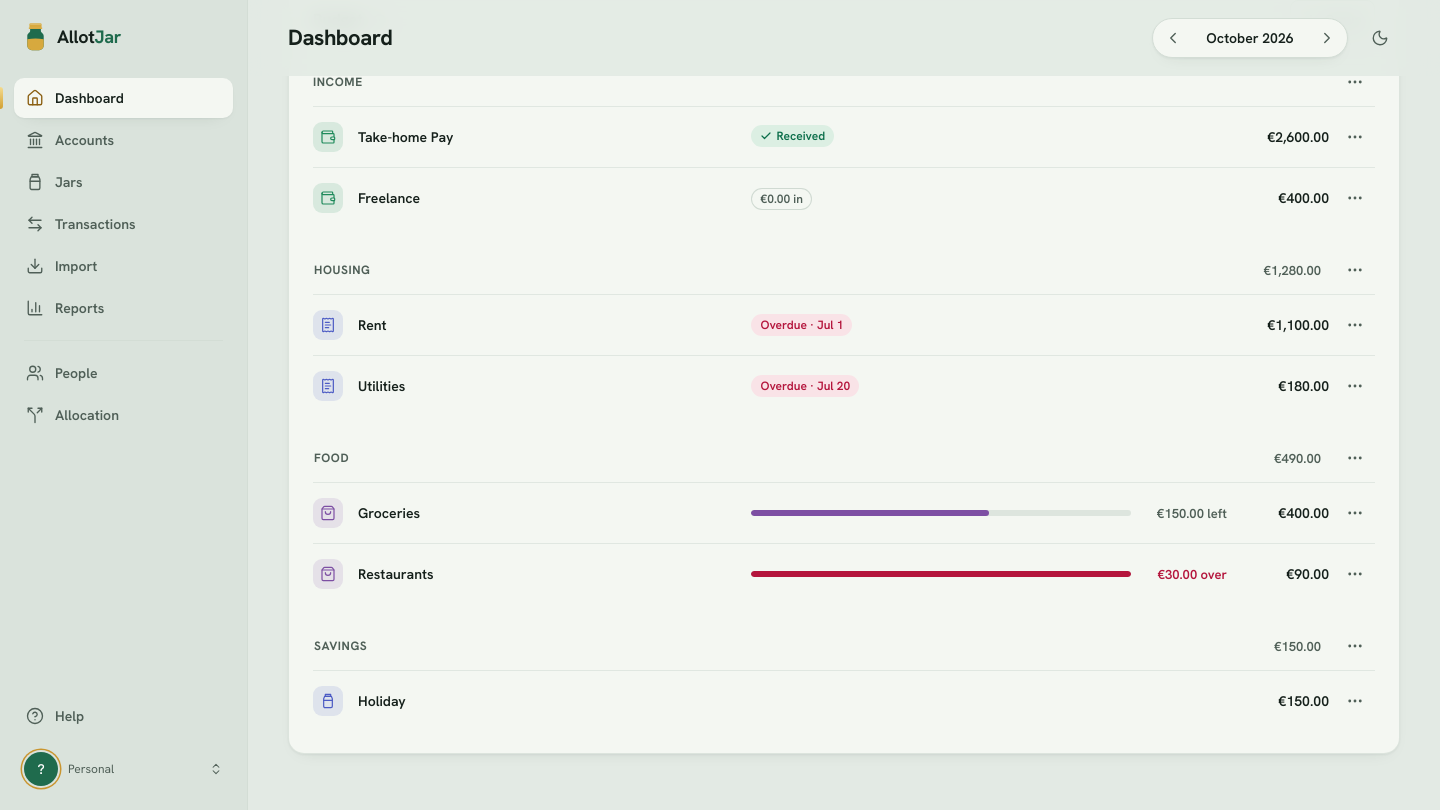
Test: DashboardPage — planned-amount parsing in-row (parseMinor seam) › DASH-040: a rejected input reverts silently — no request, no error, no flicker
The width and height of the screenshot is (1440, 810).
(page scrolled)
Click the button named "Planned amount for Groceries:".
click(1304, 513)  # box [1273,501,1335,525]
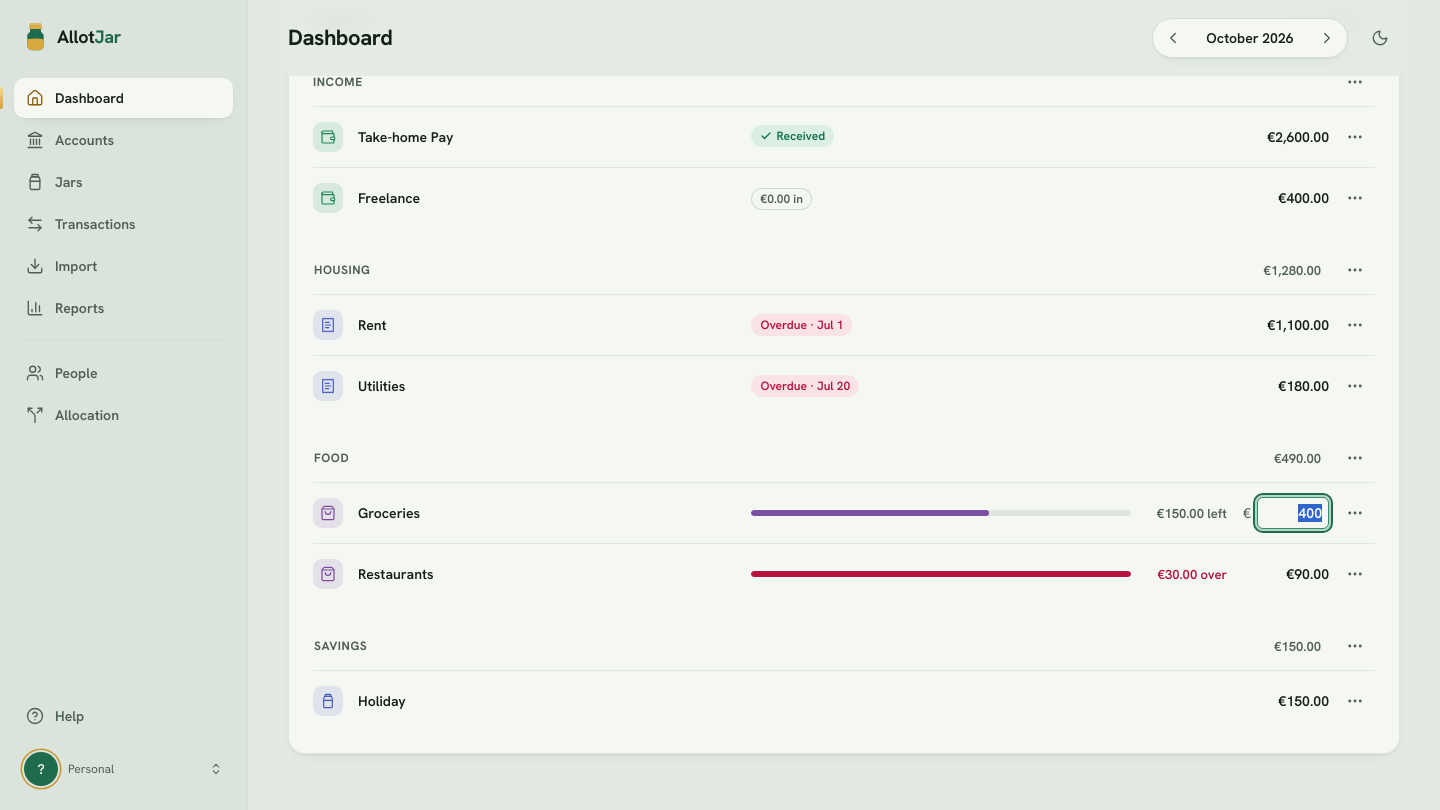
Replace the text in the field named "Planned amount for Groceries" with "abc" at [1293, 513], box [1257,497,1329,529]
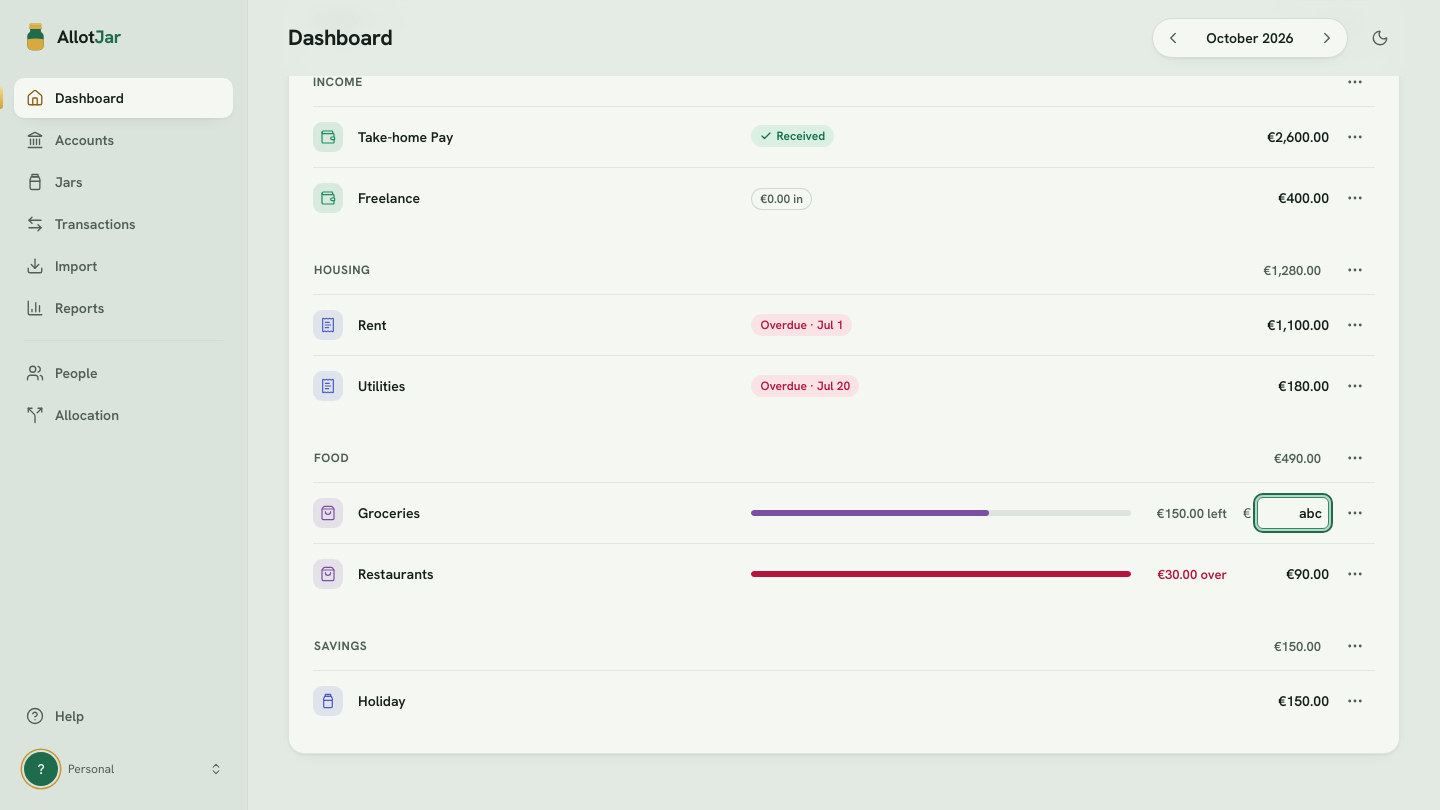
Leave the field named "Planned amount for Groceries", box [1257,497,1329,529]
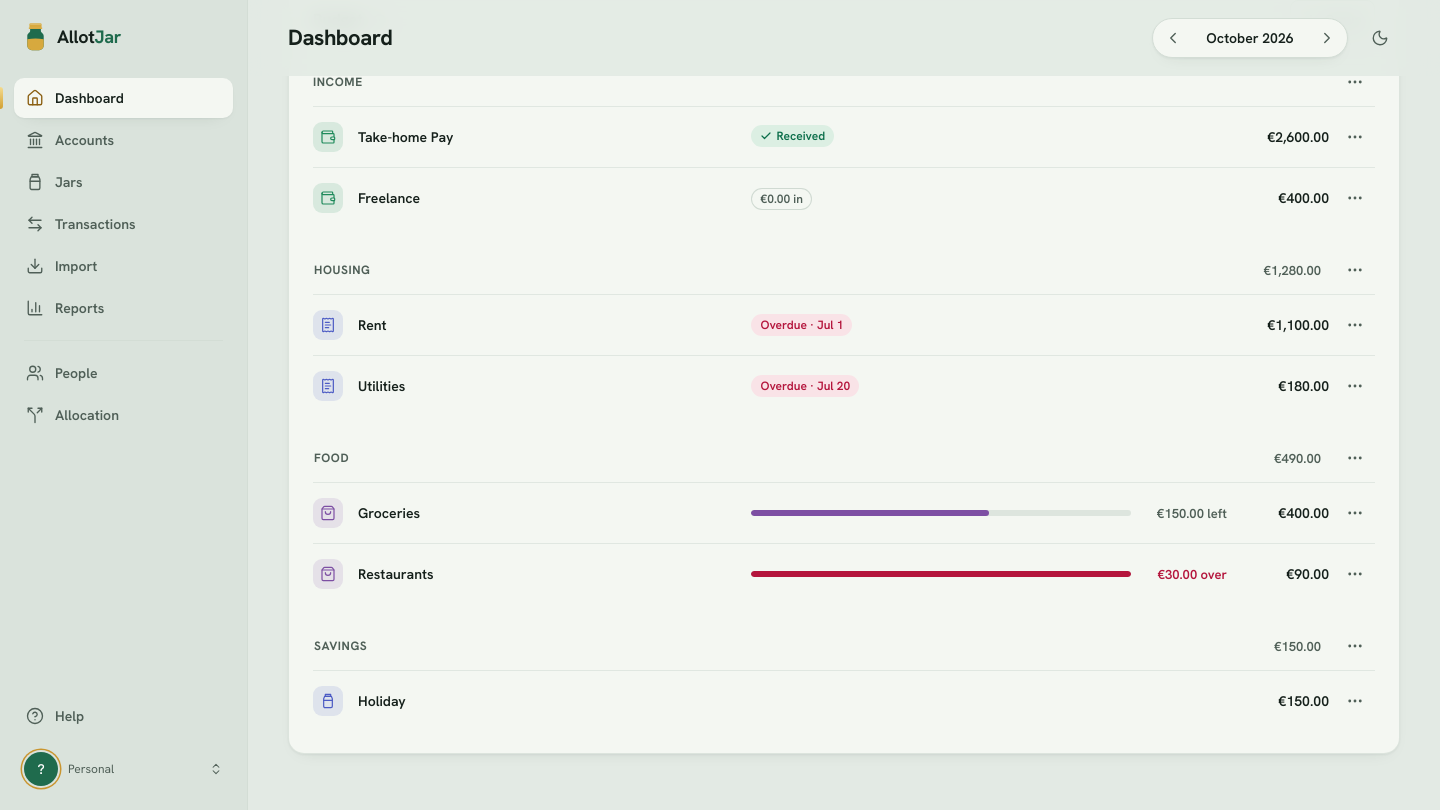
expect the button named "Planned amount for Groceries:" reads "€400.00": met, box [1273,501,1335,525]
